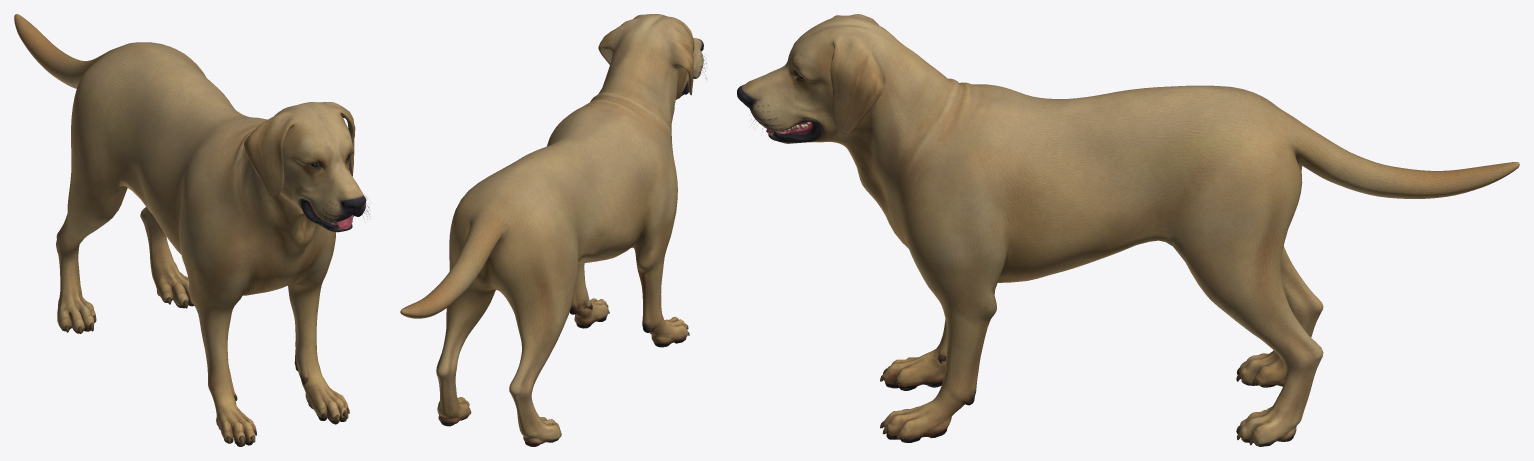
Rendered from animal  10.glb.
3 renders of one model, left to right at view 1: azimuth 30°, elevation 25°; view 2: azimuth 150°, elevation 25°; view 3: azimuth 270°, elevation 25°, orthographic. The views are drawn at different scales.
Parts seen in each view (by area): view 1: node_id126; view 2: node_id126; view 3: node_id126.
Boxes of the visible parts, <box> form: node_id126: <box>14,14,370,446</box>; node_id126: <box>400,14,707,446</box>; node_id126: <box>737,14,1519,446</box>.
Bounding box in the file's own units: 0.2187 × 0.512 × 0.933.
Materials: 1 (1 with a texture image).
